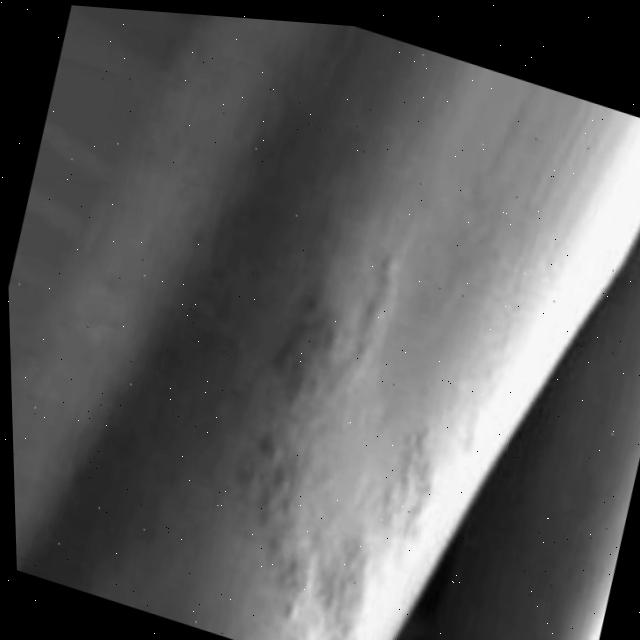Shingles: (185, 251, 492, 640)
